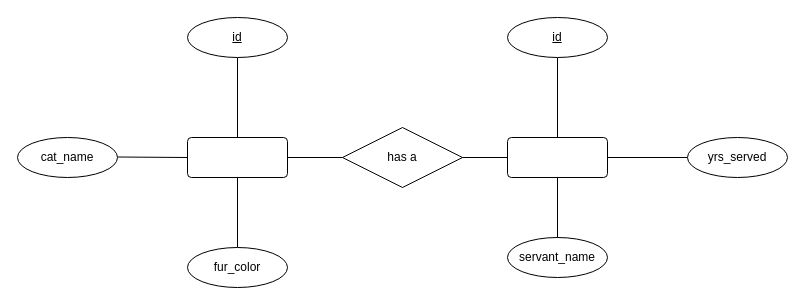
Image size: 805x305. Some labels were removed from this diagram. Each missing label, with the centre of its shape:
cats: the point at 237,157
servants: the point at 557,157
